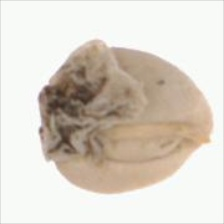L1: (37, 75, 92, 160)
L2: (38, 40, 214, 194)
